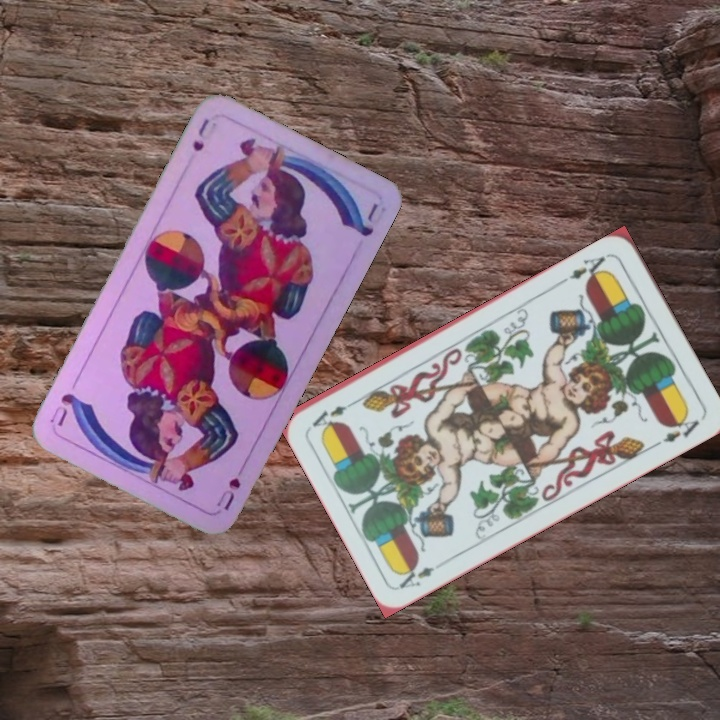EA: (558, 250, 612, 286), (395, 559, 439, 591)
SU: (212, 459, 247, 513), (188, 114, 212, 155)
